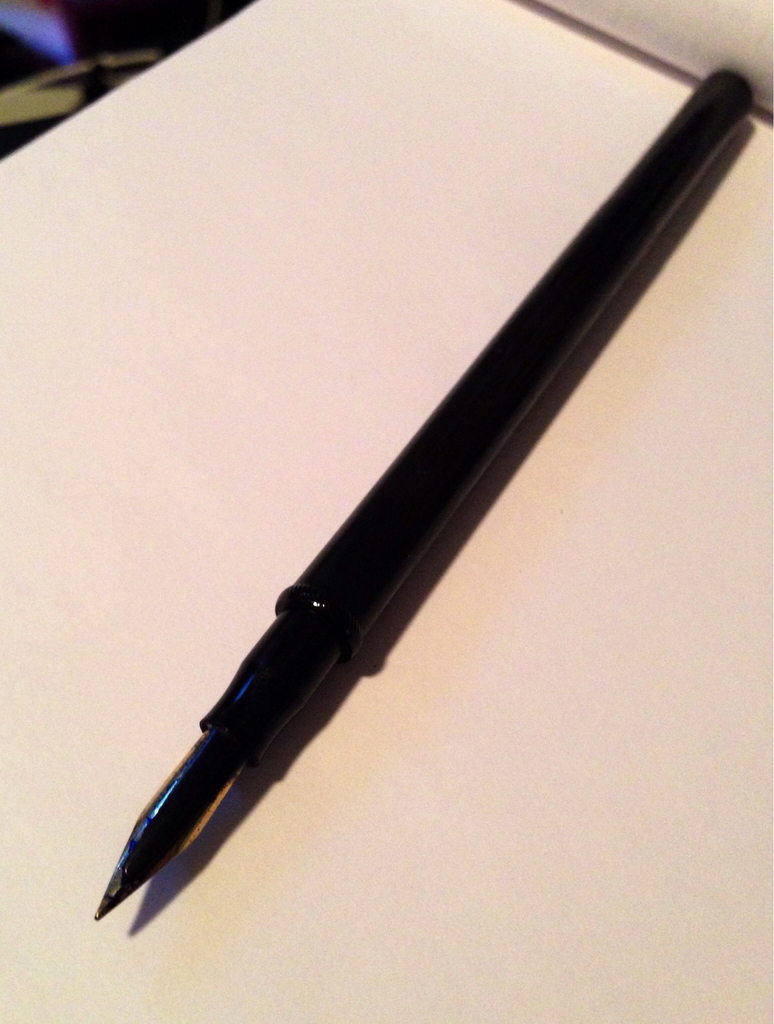Pen: (91, 64, 758, 920)
